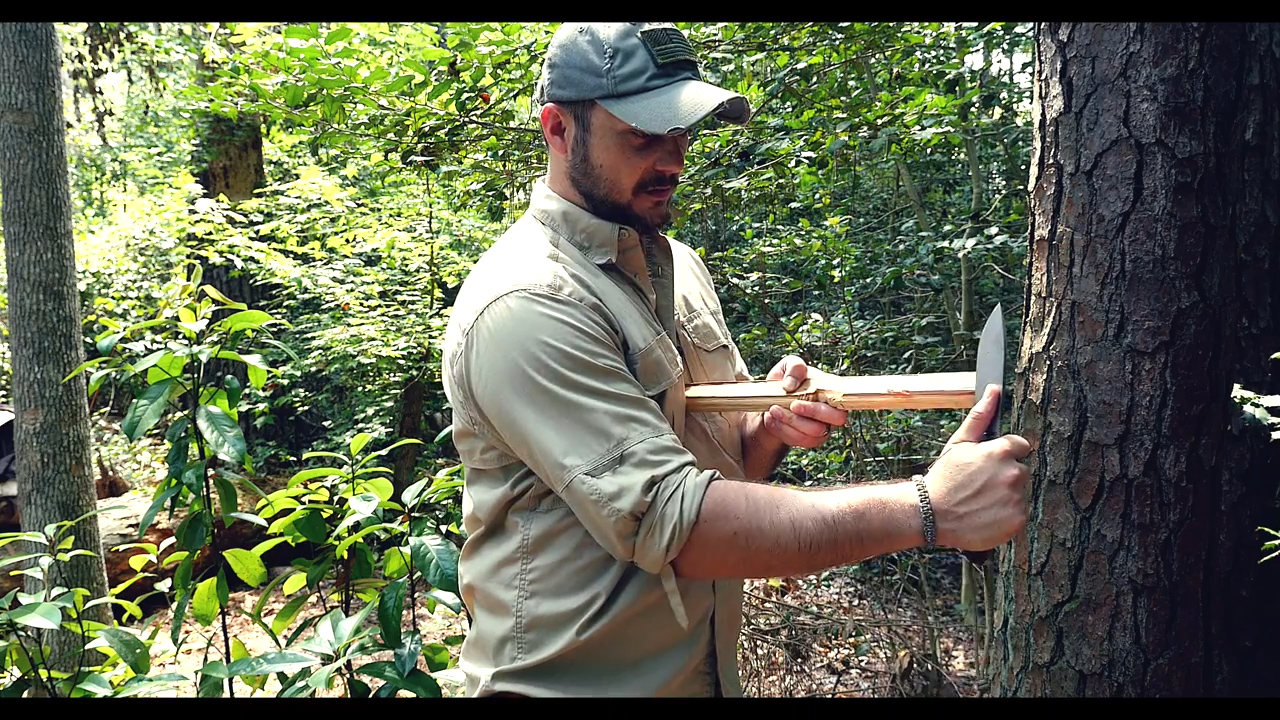knife: (939, 294, 1041, 531)
